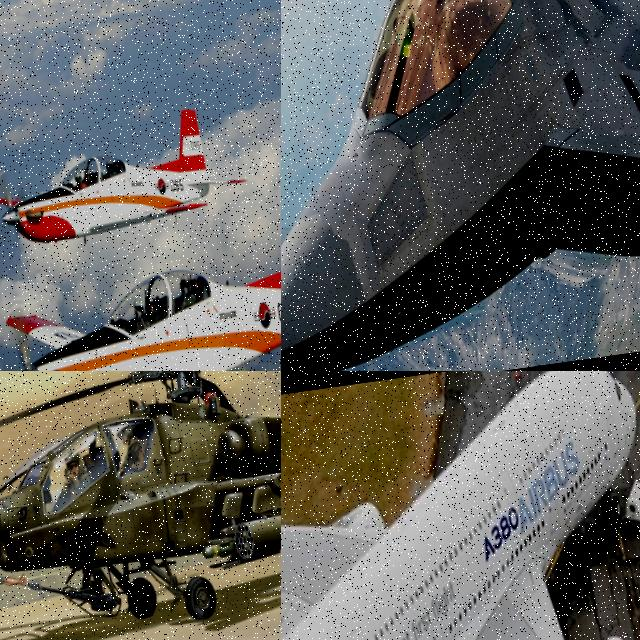A380: (281, 371, 640, 640)
Apache: (0, 371, 281, 640)
F22: (281, 0, 640, 371)
KT-1: (0, 183, 281, 371), (0, 106, 254, 250)
